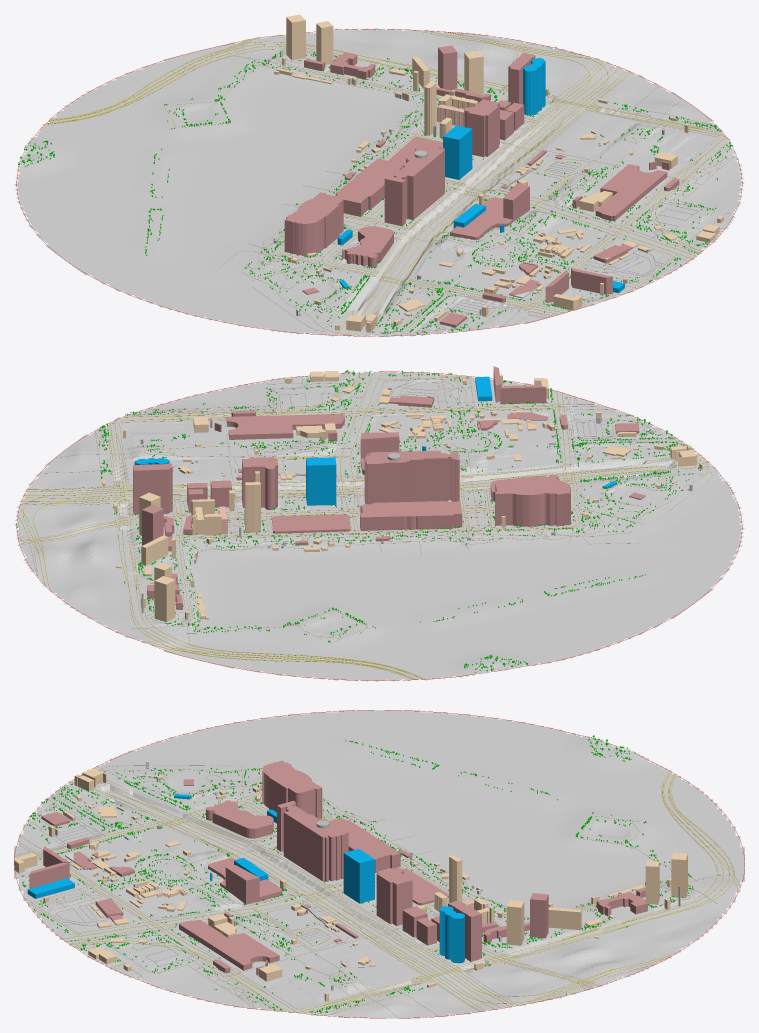
File: Odaiba-city-model.glb
3 renders of one model, top to bottom at view 1: azimuth 30°, elevation 25°; view 2: azimuth 150°, elevation 25°; view 3: azimuth 270°, elevation 25°, orthographic.
Visible parts, largest first — view 1: TERRAIN, BUILDINGS_COMMERCIAL, BUILDINGS_RESIDENTIAL, PATHS, ROADS_MAJOR, TREES, BUILDINGS_PUBLIC, SITE, ROADS_MINOR, BUILDINGS_UTILITY; view 2: TERRAIN, BUILDINGS_COMMERCIAL, BUILDINGS_RESIDENTIAL, PATHS, ROADS_MAJOR, TREES, BUILDINGS_PUBLIC, SITE, ROADS_MINOR, BUILDINGS_UTILITY; view 3: TERRAIN, BUILDINGS_COMMERCIAL, BUILDINGS_RESIDENTIAL, ROADS_MAJOR, PATHS, TREES, BUILDINGS_PUBLIC, SITE, ROADS_MINOR, BUILDINGS_UTILITY.
Part boxes in pixels (<box>): TERRAIN: <box>14,28,744,337</box>; BUILDINGS_COMMERCIAL: <box>284,45,679,327</box>; BUILDINGS_RESIDENTIAL: <box>274,14,723,332</box>; PATHS: <box>46,31,735,336</box>; ROADS_MAJOR: <box>46,30,728,335</box>; TREES: <box>18,47,732,334</box>; BUILDINGS_PUBLIC: <box>337,58,624,293</box>; SITE: <box>16,29,742,336</box>; ROADS_MINOR: <box>249,46,733,334</box>; BUILDINGS_UTILITY: <box>223,59,664,334</box>; TERRAIN: <box>14,371,744,681</box>; BUILDINGS_COMMERCIAL: <box>133,366,645,609</box>; BUILDINGS_RESIDENTIAL: <box>102,370,702,622</box>; PATHS: <box>17,372,712,679</box>; ROADS_MAJOR: <box>18,372,712,679</box>; TREES: <box>16,370,700,672</box>; BUILDINGS_PUBLIC: <box>134,376,616,505</box>; SITE: <box>16,371,742,680</box>; ROADS_MINOR: <box>130,376,676,628</box>; BUILDINGS_UTILITY: <box>140,388,699,631</box>; TERRAIN: <box>14,710,744,1018</box>; BUILDINGS_COMMERCIAL: <box>29,760,647,975</box>; BUILDINGS_RESIDENTIAL: <box>14,768,687,1003</box>; ROADS_MAJOR: <box>27,772,740,1013</box>; PATHS: <box>15,760,733,1017</box>; TREES: <box>22,735,693,1013</box>; BUILDINGS_PUBLIC: <box>27,794,464,963</box>; SITE: <box>14,710,744,1018</box>; ROADS_MINOR: <box>21,783,716,978</box>; BUILDINGS_UTILITY: <box>53,767,680,990</box>.
Size of the model in its own units: 1851 by 150 by 1851.
